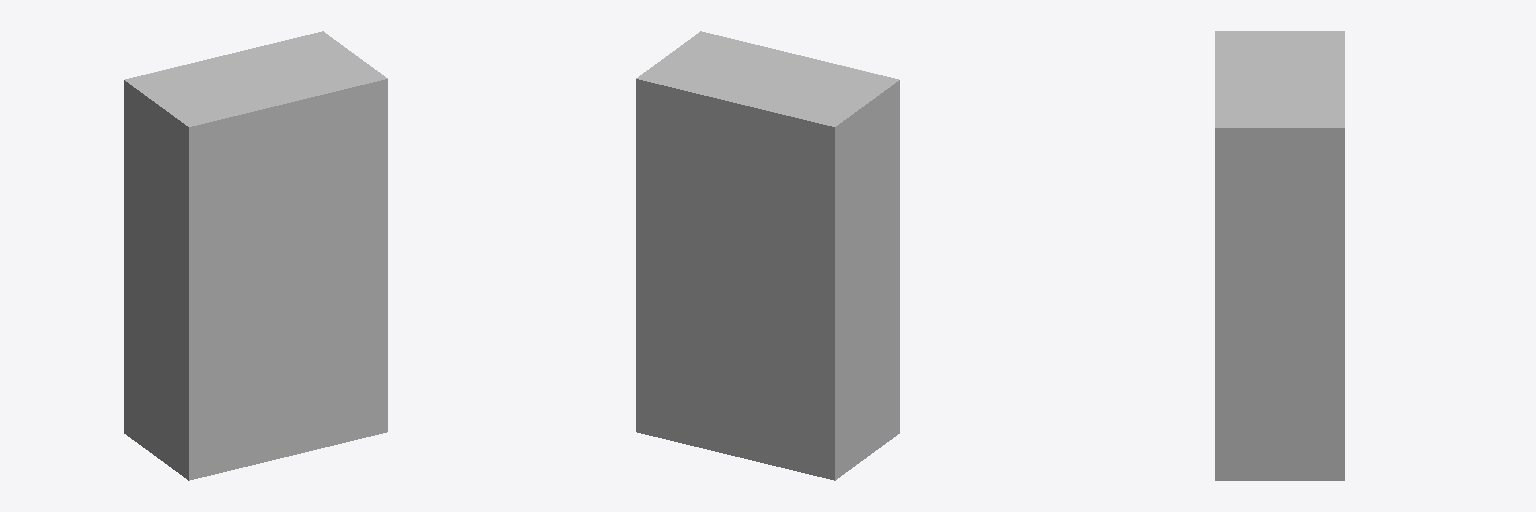
The model's file is bathroomCabinet.obj.
3 renders of one model, left to right at view 1: azimuth 30°, elevation 25°; view 2: azimuth 150°, elevation 25°; view 3: azimuth 270°, elevation 25°, orthographic.
Parts seen in each view (by area): view 1: bathroomCabinet; view 2: bathroomCabinet, door; view 3: bathroomCabinet.
Part boxes in pixels (x1,y1,x2,y2): bathroomCabinet: (124, 31, 387, 480); bathroomCabinet: (636, 31, 899, 480); door: (659, 109, 811, 450); bathroomCabinet: (1215, 31, 1344, 480).
Bounding box in the file's own units: 0.23 × 0.39 × 0.13.